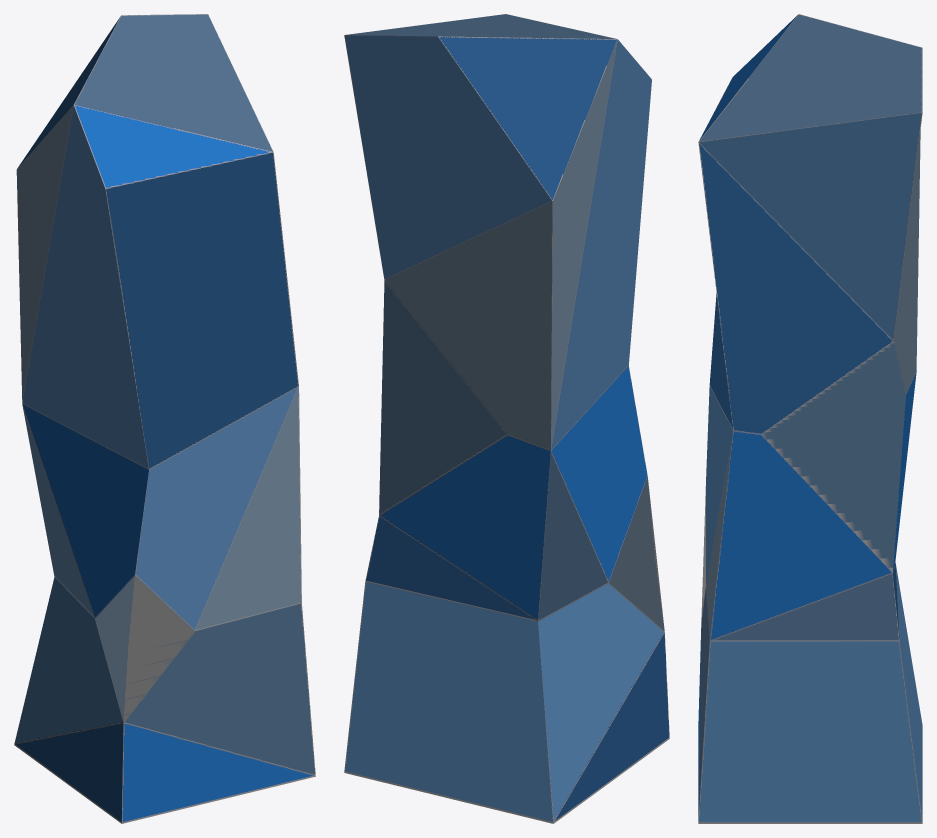
File: Toondra_Wall.fbx
3 views of the same model, side by side, from view 1: azimuth 30°, elevation 25°; view 2: azimuth 150°, elevation 25°; view 3: azimuth 270°, elevation 25° (orthographic). The views are drawn at different scales.
Parts seen in each view (by area): view 1: Cube.014; view 2: Cube.014; view 3: Cube.014.
Boxes of the visible parts, left/top/right/bottom form: Cube.014: left=14, top=14, right=315, bottom=823; Cube.014: left=344, top=14, right=669, bottom=823; Cube.014: left=698, top=14, right=922, bottom=823.
Size of the model in its own units: 18.7 by 64.81 by 17.99.
